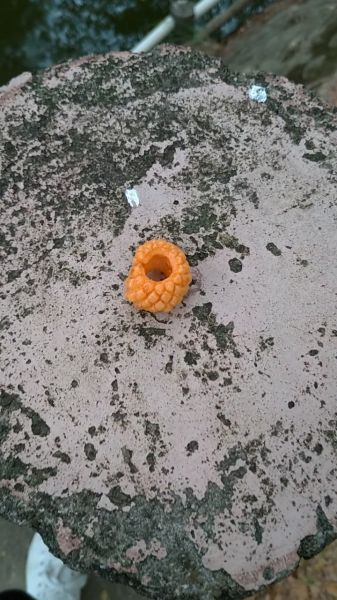eggs: (120, 230, 197, 314)
